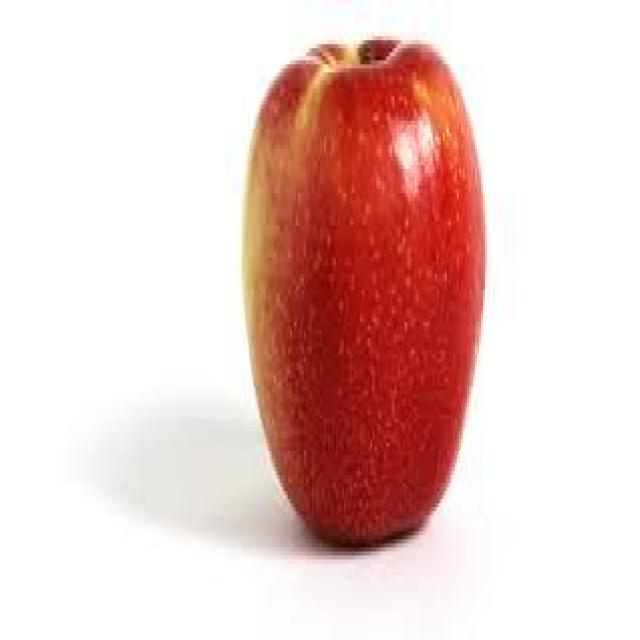organic: (242, 36, 485, 551)
